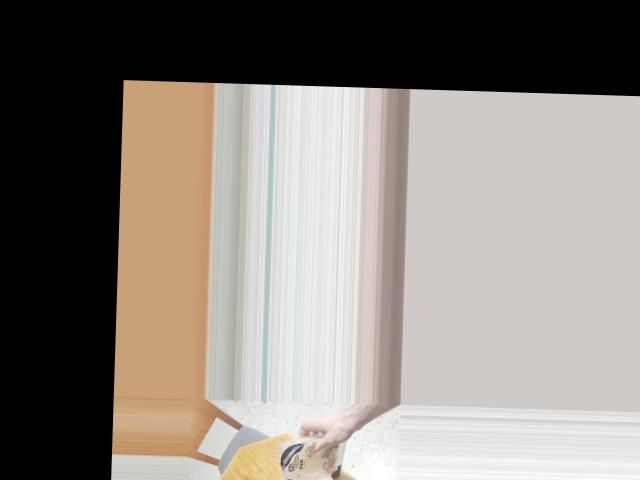cheese: (274, 435, 349, 480)
